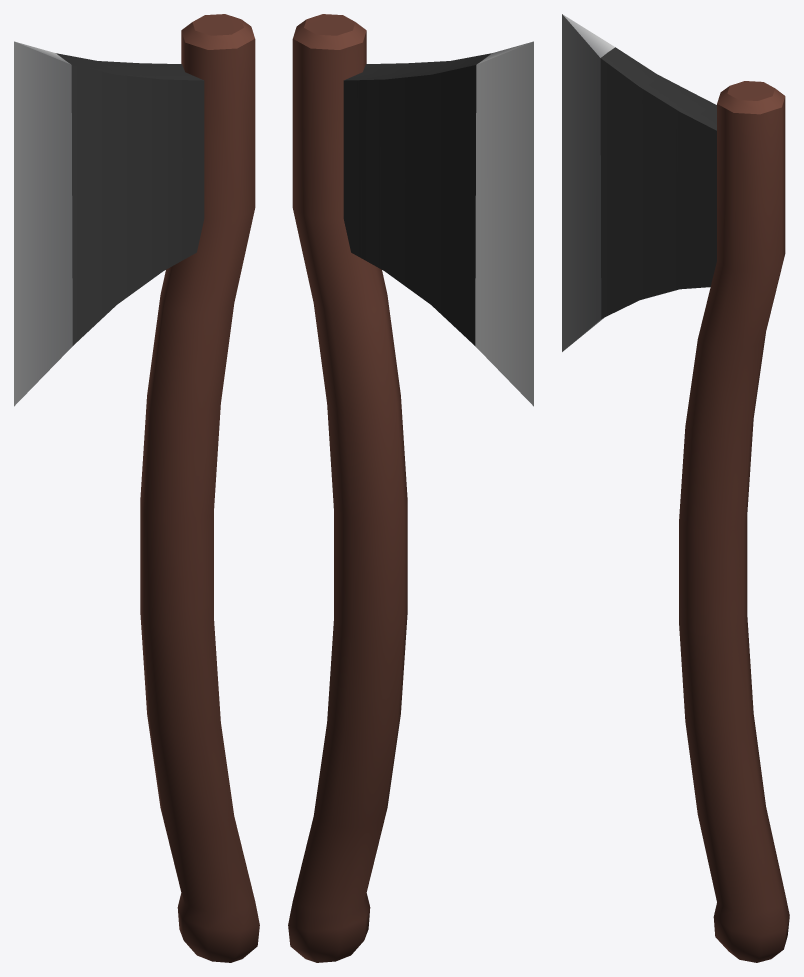
The model's file is ToonProps.fbx.
3 views of the same model, side by side, from view 1: azimuth 30°, elevation 25°; view 2: azimuth 150°, elevation 25°; view 3: azimuth 330°, elevation 25° (orthographic). The views are drawn at different scales.
Parts seen in each view (by area): view 1: Circle, Cube; view 2: Circle, Cube; view 3: Circle, Cube.
Boxes of the visible parts, <box> form: Circle: <box>140,14,259,962</box>; Cube: <box>14,41,204,406</box>; Circle: <box>288,14,407,962</box>; Cube: <box>343,41,533,406</box>; Circle: <box>679,81,789,962</box>; Cube: <box>562,14,716,351</box>.
Size of the model in its own units: 36.5 by 139 by 11.21.
Materials: 1 (1 with a texture image).
